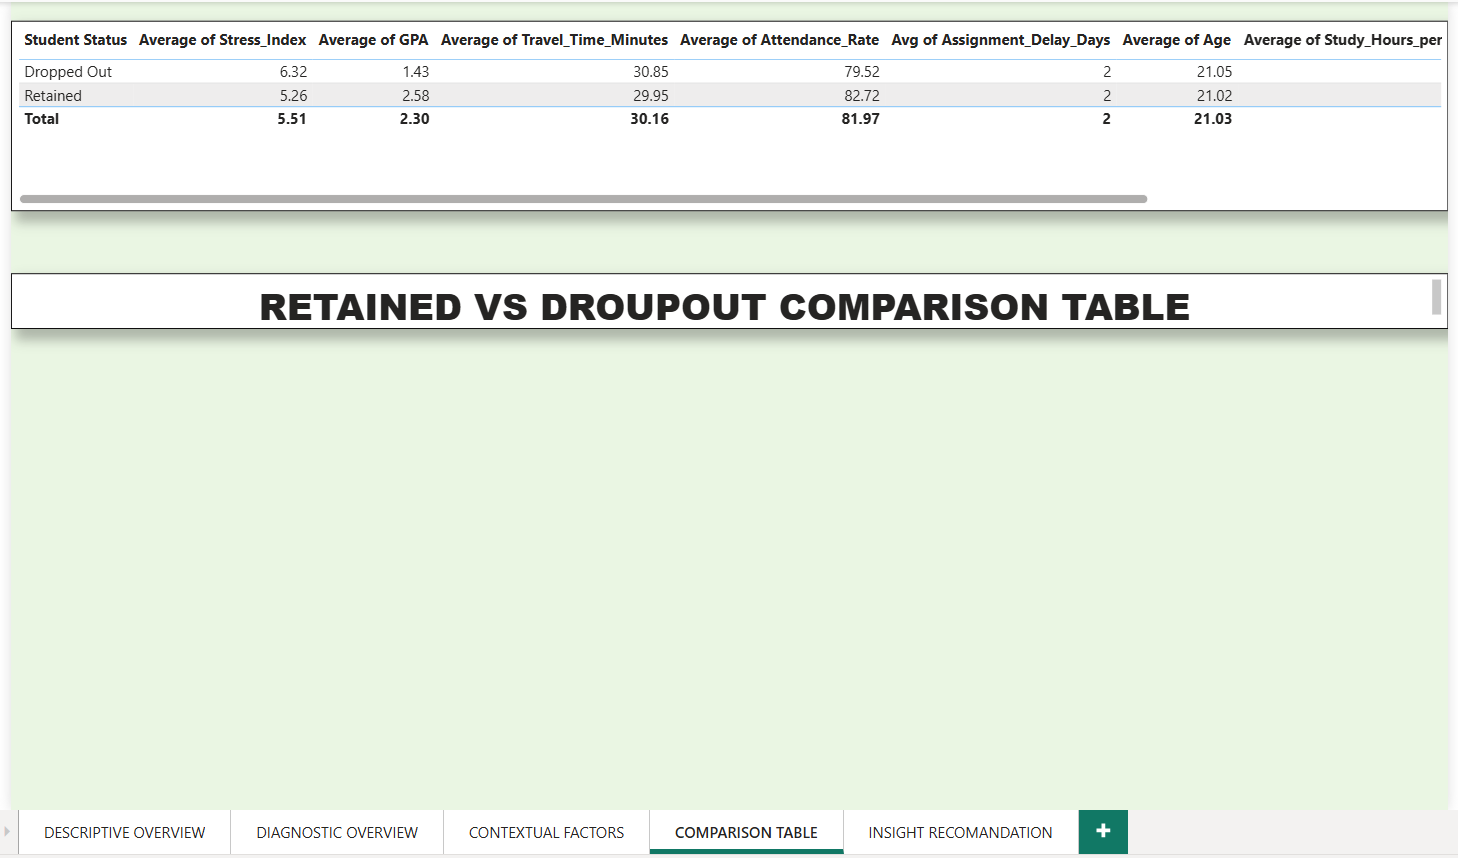

This screenshot's page, from the dashboard's own definition file:
{"tool":"powerbi","page":{"name":"COMPARISON TABLE","canvas":[1280,720],"ordinal":3},"visuals":[{"type":"tableEx","fields":{"Values":["STUDENTS.Student Status","Avg(STUDENTS.Stress_Index)","Avg(STUDENTS.GPA)","Avg(STUDENTS.Travel_Time_Minutes)","Avg(STUDENTS.Attendance_Rate)","Avg(STUDENTS.Assignment_Delay_Days)","Avg(STUDENTS.Age)","Avg(STUDENTS.Study_Hours_per_Day)","Avg(STUDENTS.Family_Income)","Avg(STUDENTS.CGPA)"]},"box":[0,16.5,1280,169.2],"z":0},{"type":"textbox","box":[0,241.2,1280,49.6],"z":1000}]}

Visuals, with their boxes in screenshot pixels (x1, y1, x2, y2):
tableEx - STUDENTS.Student Status x Avg(STUDENTS.Stress_Index): (4,15,1442,205)
textbox: (4,267,1442,323)
